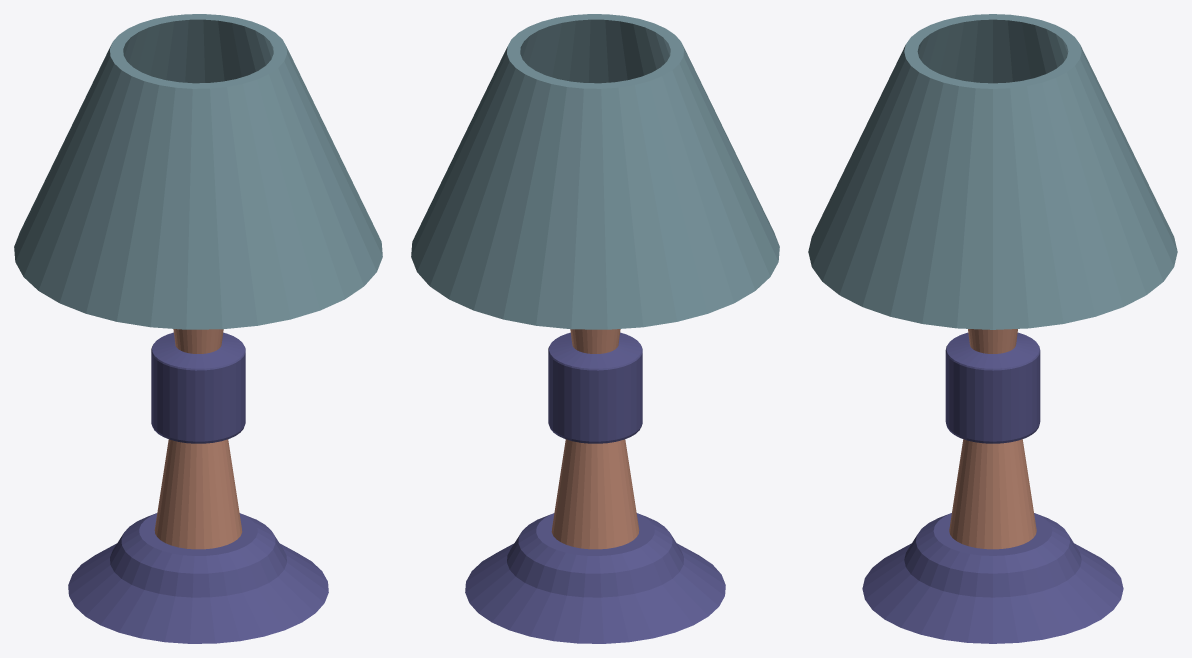
Rendered from lamppu_GJ22.fbx.
3 renders of one model, left to right at view 1: azimuth 30°, elevation 25°; view 2: azimuth 150°, elevation 25°; view 3: azimuth 270°, elevation 25°, orthographic.
Visible parts, largest first — view 1: Cylinder; view 2: Cylinder; view 3: Cylinder.
Boxes of the visible parts, x1,y1,x2,y2 form: Cylinder: (14, 14, 382, 643); Cylinder: (411, 14, 779, 643); Cylinder: (808, 14, 1177, 643).
Bounding box in the file's own units: 83.24 × 134 × 83.24.
Materials: 1 (1 with a texture image).
